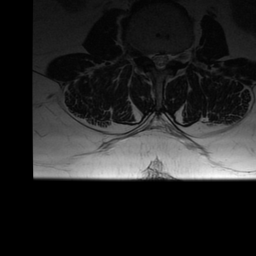CCS_normal: (156, 46, 163, 75)
LFS_stenosis: (170, 47, 177, 69)
LLS_normal: (163, 46, 170, 71)
RFS_stenosis: (140, 45, 148, 64)
RLS_normal: (148, 46, 156, 70)
